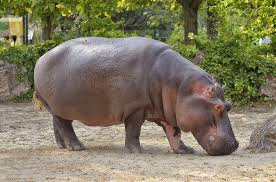Hippopotamus: (32, 36, 241, 156)
